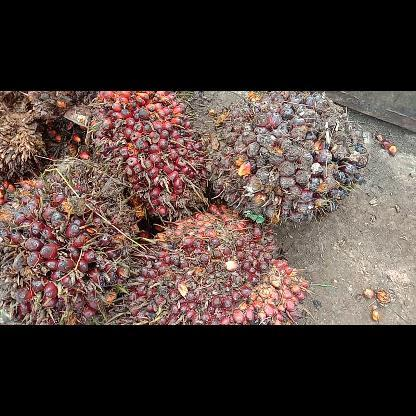Kurang masak: (204, 92, 372, 230)
TBS masak: (119, 200, 314, 324), (0, 155, 138, 324), (61, 91, 213, 221)
